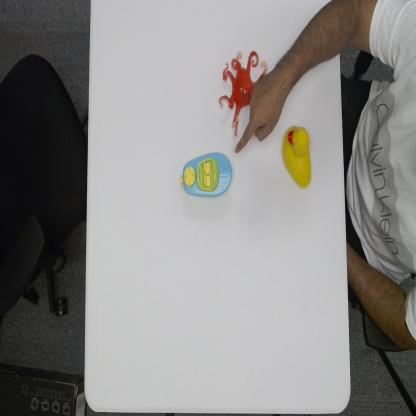Boat: (178, 150, 234, 200)
Duck: (281, 122, 312, 190)
Hand: (234, 66, 283, 156)
Octopus: (217, 48, 270, 137)
